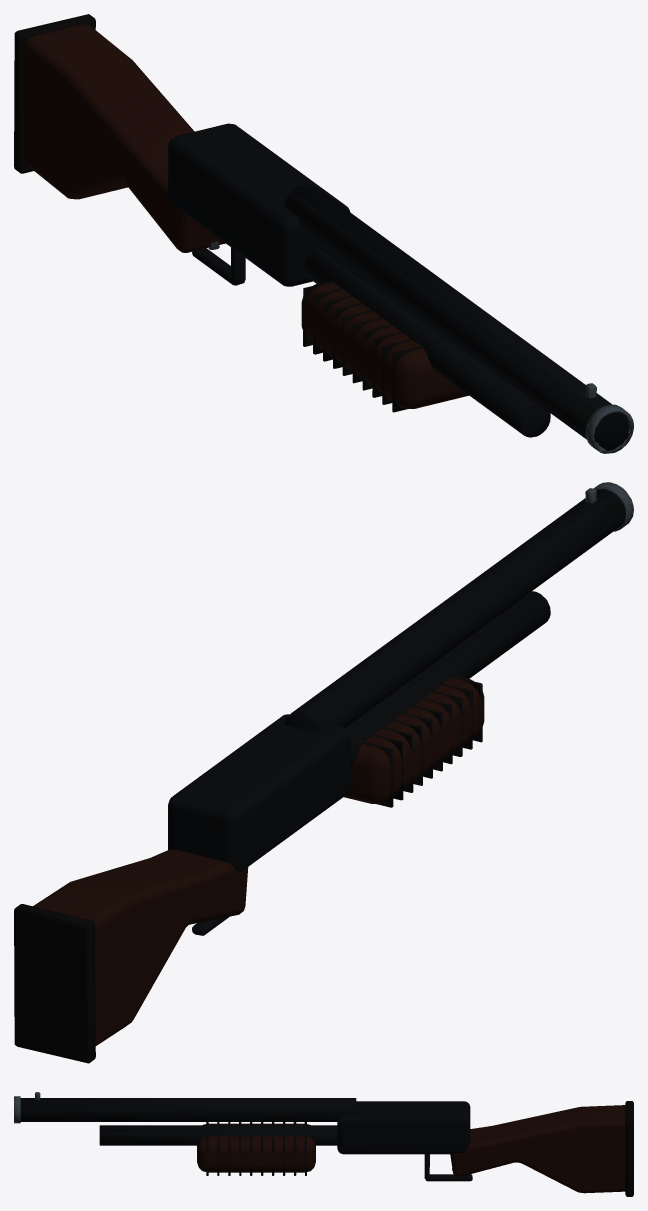
File: weapon_shotgun.glb
3 views of the same model, one above another, from view 1: azimuth 30°, elevation 25°; view 2: azimuth 150°, elevation 25°; view 3: azimuth 270°, elevation 25° (orthographic). The views are drawn at different scales.
Parts seen in each view (by area): view 1: weapon_shotgun; view 2: weapon_shotgun; view 3: weapon_shotgun.
Boxes of the visible parts, box(x1,y1,x2,y2) form: weapon_shotgun: box(14, 14, 633, 453); weapon_shotgun: box(14, 482, 633, 1063); weapon_shotgun: box(14, 1092, 633, 1196).
Bounding box in the file's own units: 0.12 × 0.2195 × 1.3.
1 material, 1 textured.
